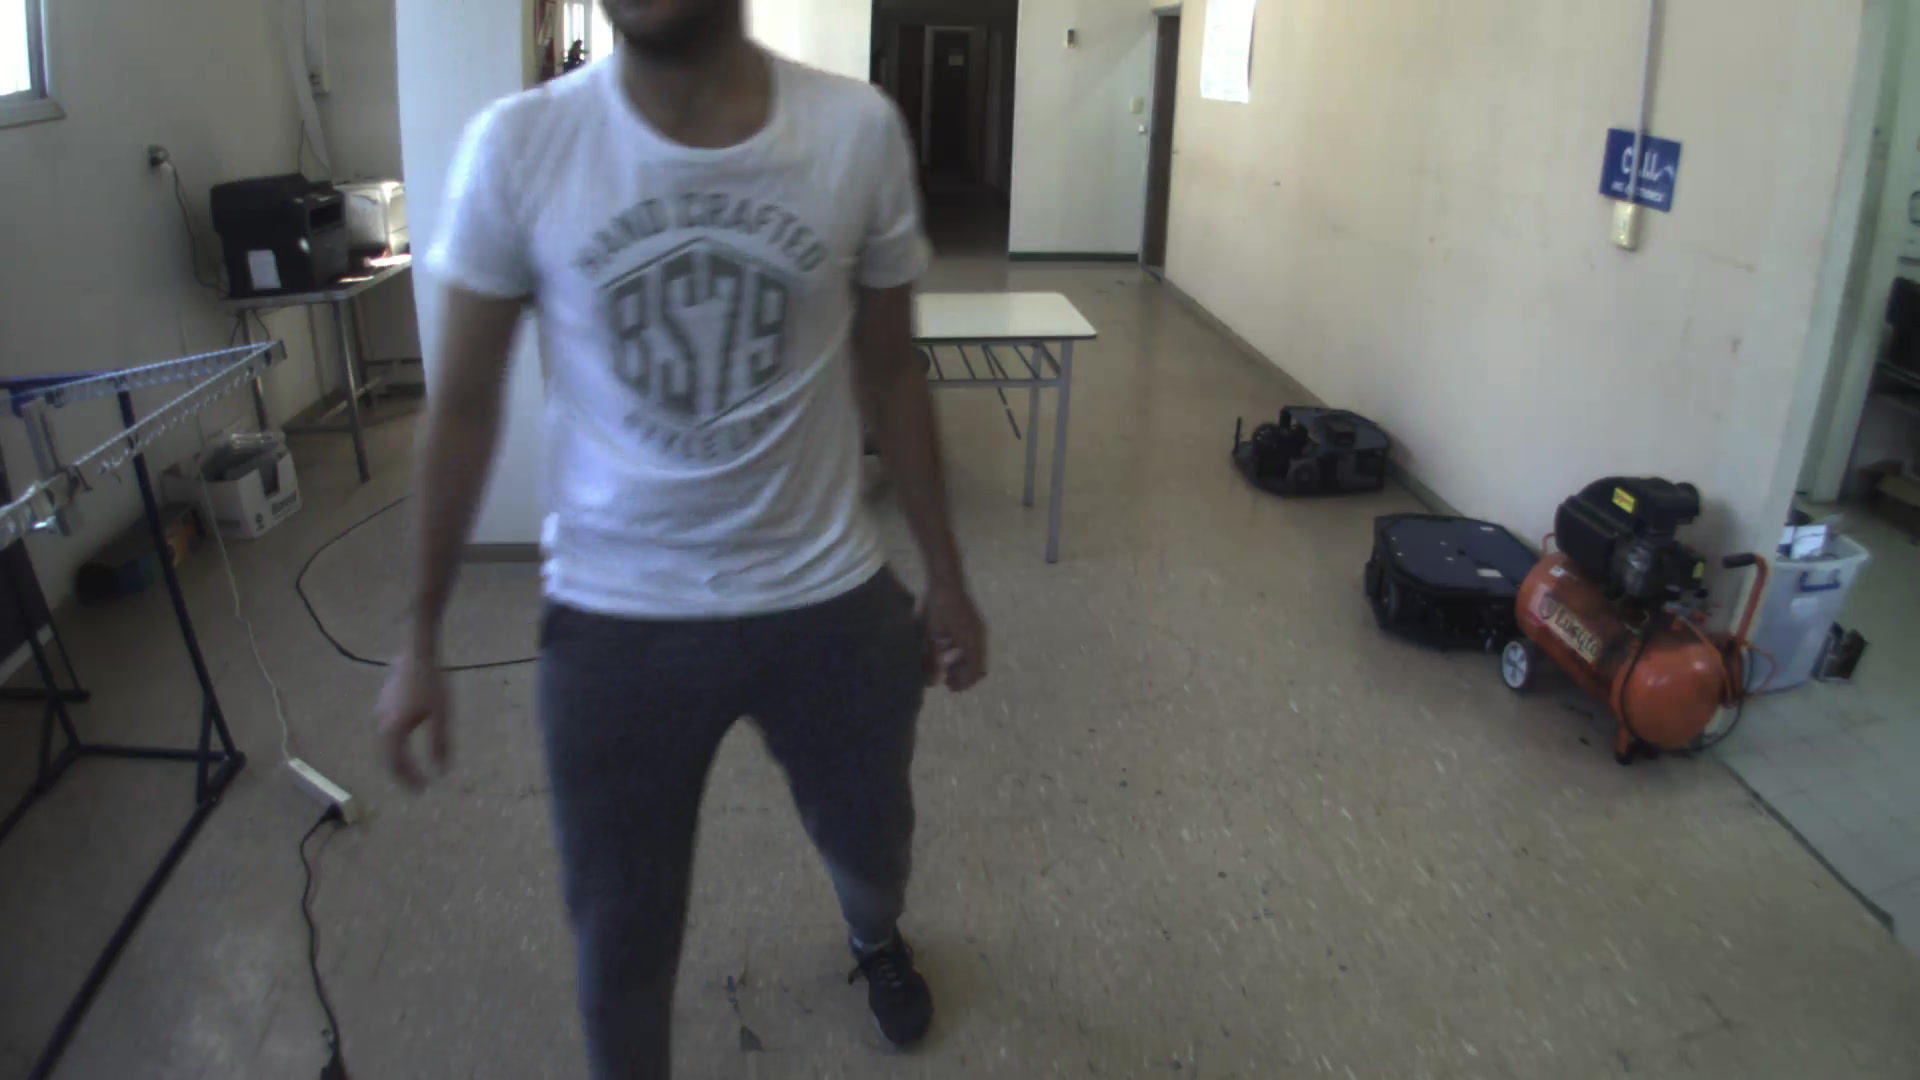hand: (361, 644, 459, 802), (913, 578, 1000, 705)
